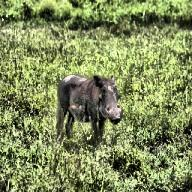boar: (54, 74, 122, 142)
